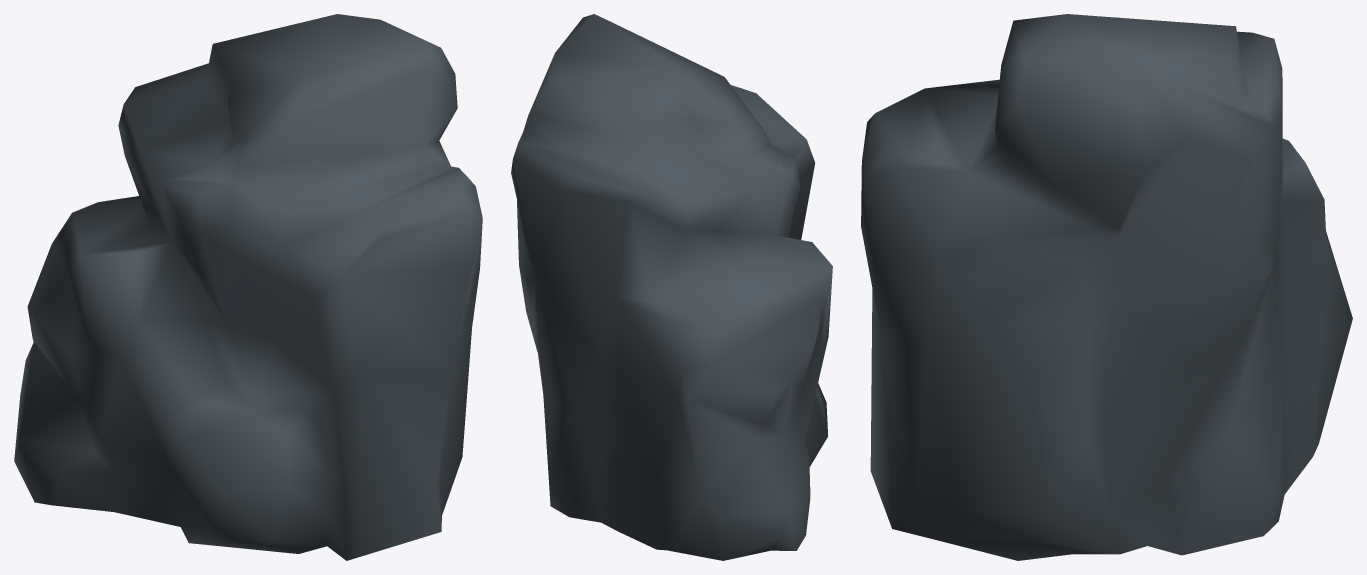
The model's file is rock_01.fbx.
3 views of the same model, side by side, from view 1: azimuth 30°, elevation 25°; view 2: azimuth 150°, elevation 25°; view 3: azimuth 270°, elevation 25° (orthographic). The views are drawn at different scales.
Visible parts, largest first — view 1: rock_01; view 2: rock_01; view 3: rock_01.
Part boxes in pixels (left/top/right/bottom): rock_01: left=14, top=14, right=482, bottom=560; rock_01: left=511, top=14, right=832, bottom=560; rock_01: left=861, top=14, right=1352, bottom=560.
Size of the model in its own units: 63.08 by 80.01 by 68.96.
